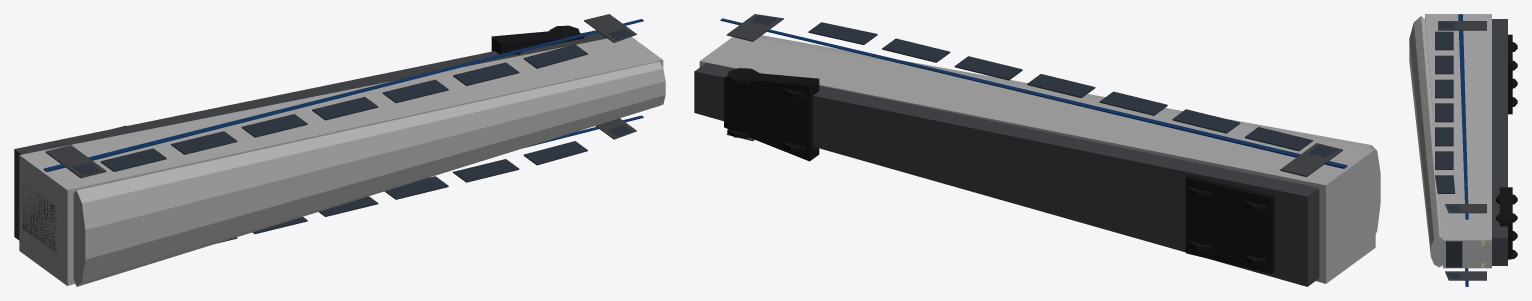
The model's file is train-cab.glb.
3 renders of one model, left to right at view 1: azimuth 30°, elevation 25°; view 2: azimuth 150°, elevation 25°; view 3: azimuth 270°, elevation 25°, orthographic. The views are drawn at different scales.
Parts seen in each view (by area): view 1: train-cab; view 2: train-cab; view 3: train-cab.
Boxes of the visible parts, bbox=[...] form: train-cab: bbox=[14, 14, 665, 286]; train-cab: bbox=[694, 14, 1380, 286]; train-cab: bbox=[1409, 14, 1517, 286].
Size of the model in its own units: 19.02 by 2.93 by 4.22.
